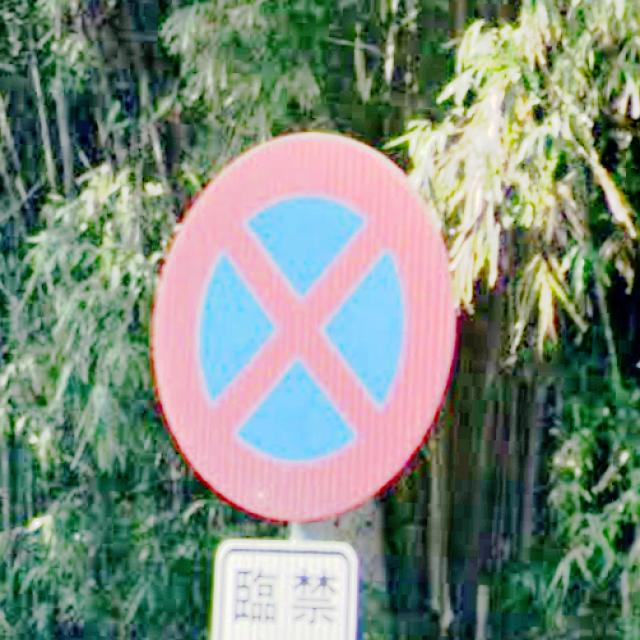nostop: (148, 128, 460, 525)
